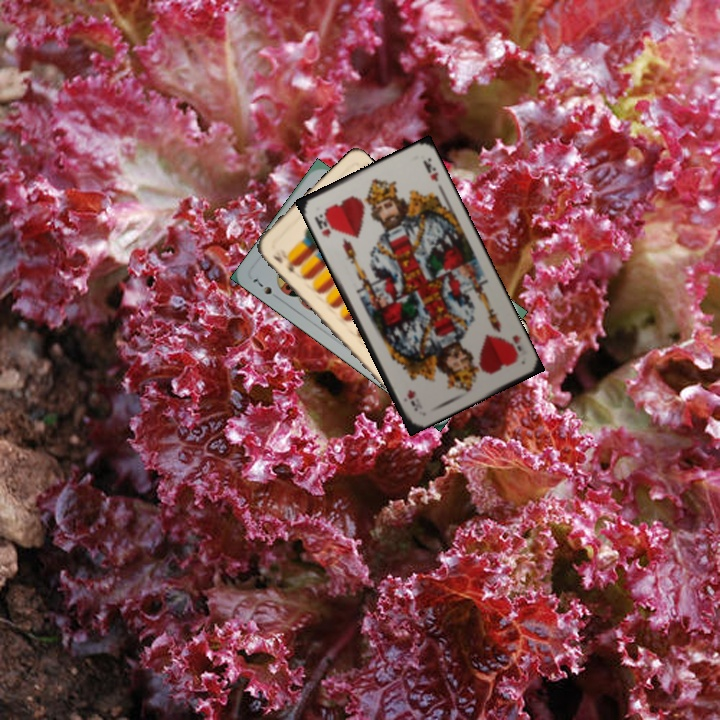E10: (268, 251, 299, 276)
HK: (310, 209, 335, 241), (503, 331, 524, 364)
S7: (248, 274, 283, 303)
